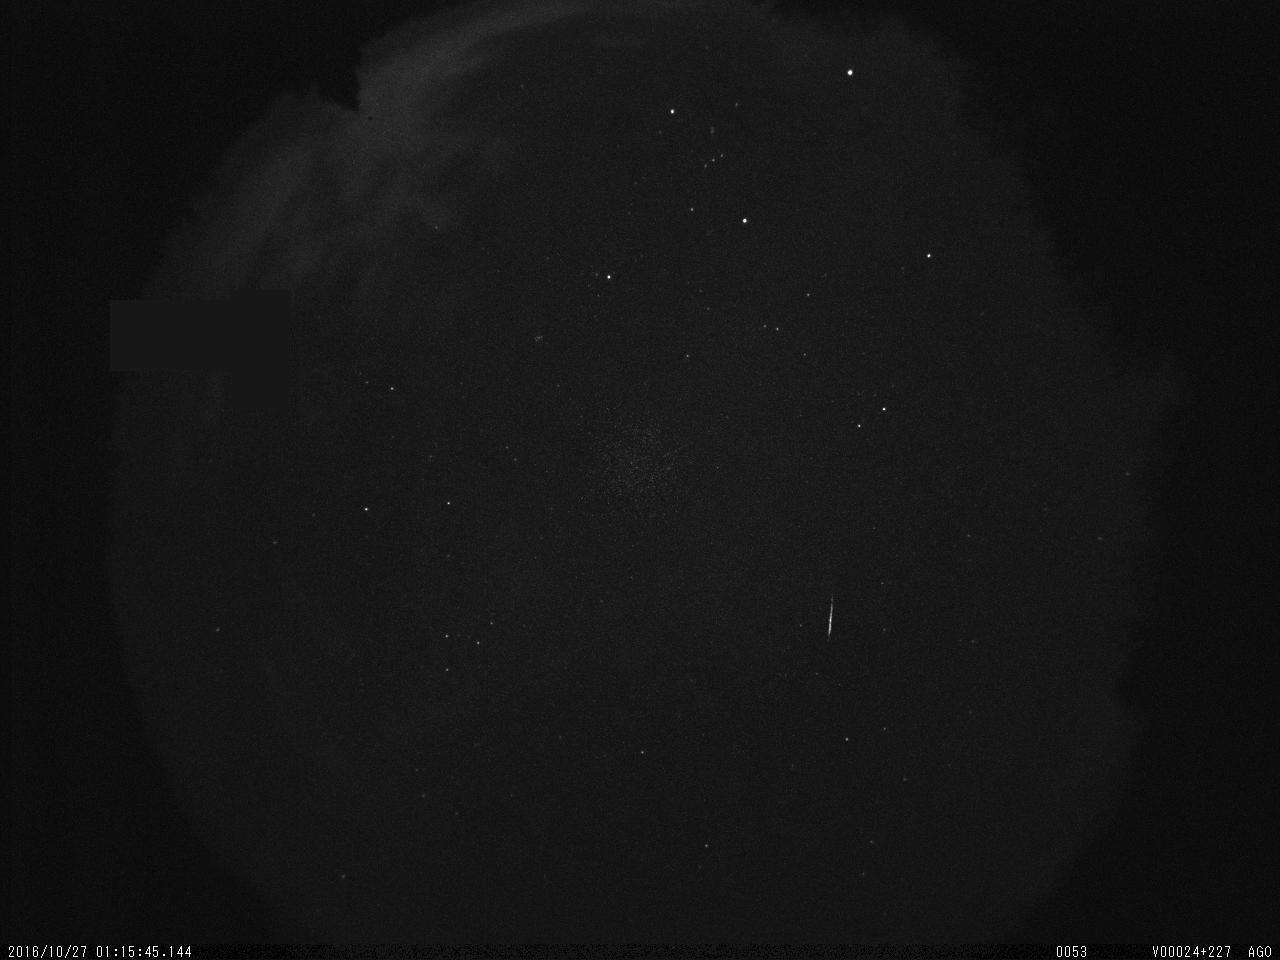meteor: (824, 587, 846, 664)
